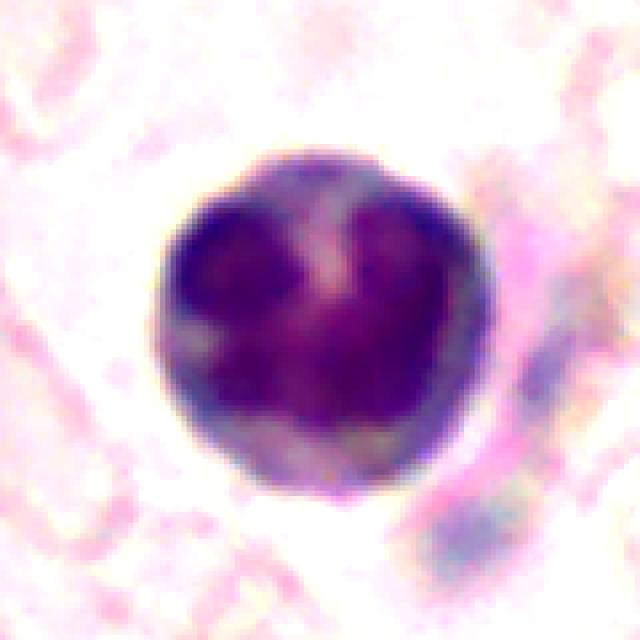WBC: (149, 133, 507, 512)
